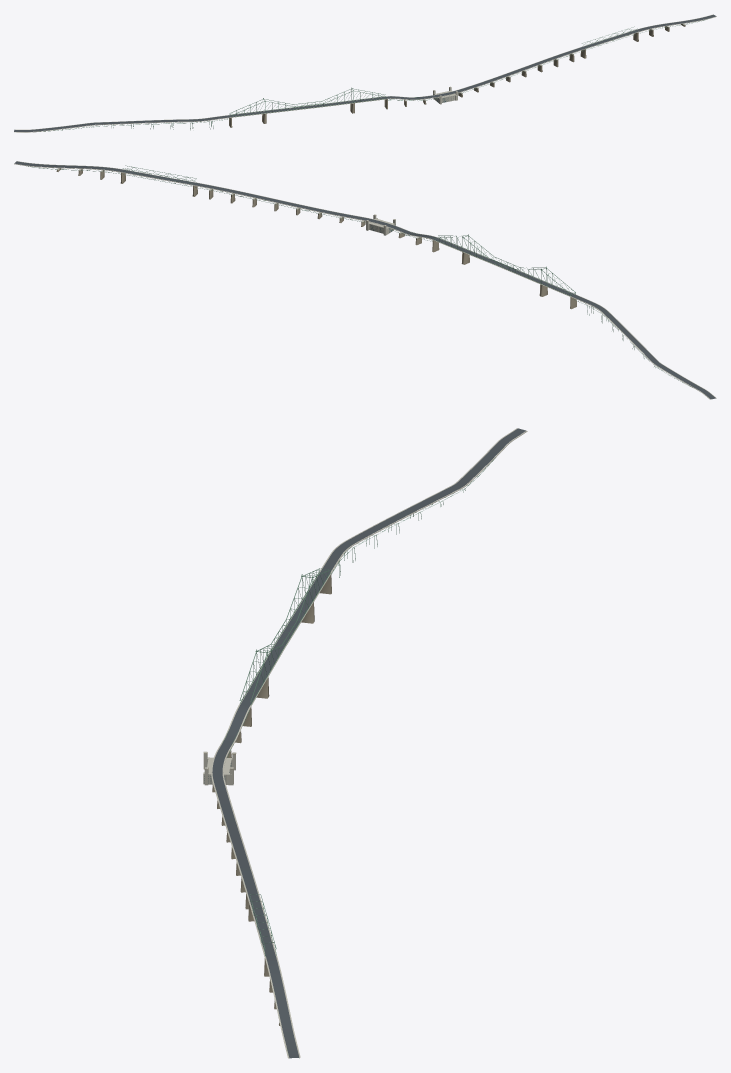
Rendered from pont-jacques-cartier-far.glb.
3 renders of one model, top to bottom at view 1: azimuth 30°, elevation 25°; view 2: azimuth 150°, elevation 25°; view 3: azimuth 270°, elevation 25°, orthographic. The views are drawn at different scales.
Visible parts, largest first — view 1: pont-jacques-cartier-0-asphalt, pont-jacques-cartier-0-concrete, pont-jacques-cartier-0-steel, pont-jacques-cartier-0-stone; view 2: pont-jacques-cartier-0-asphalt, pont-jacques-cartier-0-concrete, pont-jacques-cartier-0-steel, pont-jacques-cartier-0-stone; view 3: pont-jacques-cartier-0-asphalt, pont-jacques-cartier-0-concrete, pont-jacques-cartier-0-steel, pont-jacques-cartier-0-stone.
Boxes of the visible parts, x1,y1,x2,y2 form: pont-jacques-cartier-0-asphalt: [14, 14, 715, 131]; pont-jacques-cartier-0-concrete: [14, 14, 716, 132]; pont-jacques-cartier-0-steel: [39, 20, 704, 131]; pont-jacques-cartier-0-stone: [229, 24, 685, 127]; pont-jacques-cartier-0-asphalt: [14, 161, 715, 399]; pont-jacques-cartier-0-concrete: [14, 161, 716, 399]; pont-jacques-cartier-0-steel: [26, 165, 692, 387]; pont-jacques-cartier-0-stone: [56, 168, 576, 309]; pont-jacques-cartier-0-asphalt: [212, 428, 525, 1058]; pont-jacques-cartier-0-concrete: [203, 428, 527, 1058]; pont-jacques-cartier-0-steel: [222, 458, 495, 1058]; pont-jacques-cartier-0-stone: [203, 574, 331, 1025].
Bounding box in the file's own units: 2720 × 95.6 × 592.
